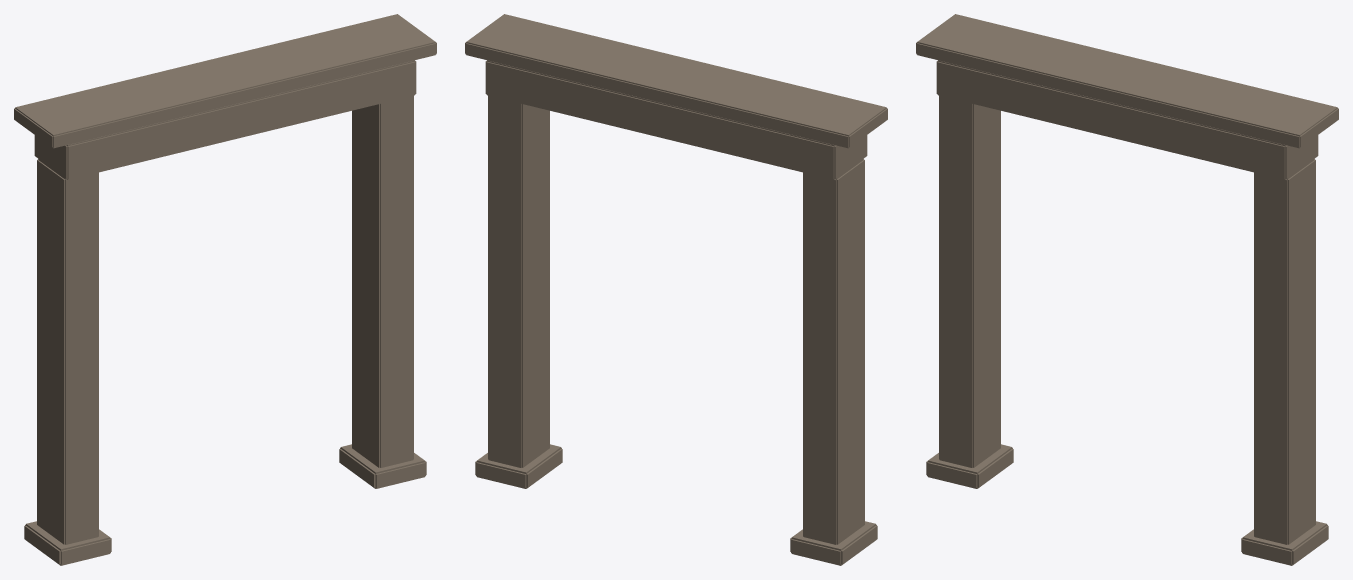
The model's file is entrance-arch.glb.
3 renders of one model, left to right at view 1: azimuth 30°, elevation 25°; view 2: azimuth 150°, elevation 25°; view 3: azimuth 330°, elevation 25°, orthographic.
Visible parts, largest first — view 1: EntranceArch_part, EntranceArch_part.002, EntranceArch_part.005, EntranceArch_part.004, EntranceArch_part.001, EntranceArch_part.003; view 2: EntranceArch_part, EntranceArch_part.002, EntranceArch_part.005, EntranceArch_part.004, EntranceArch_part.001, EntranceArch_part.003; view 3: EntranceArch_part.002, EntranceArch_part, EntranceArch_part.005, EntranceArch_part.004, EntranceArch_part.003, EntranceArch_part.001.
Part boxes in pixels (x1=…): EntranceArch_part: x1=37, y1=159, x2=98, y2=544; EntranceArch_part.002: x1=352, y1=95, x2=413, y2=467; EntranceArch_part.005: x1=14, y1=14, x2=436, y2=148; EntranceArch_part.004: x1=34, y1=60, x2=416, y2=179; EntranceArch_part.001: x1=24, y1=521, x2=111, y2=565; EntranceArch_part.003: x1=339, y1=444, x2=426, y2=488; EntranceArch_part: x1=803, y1=159, x2=864, y2=544; EntranceArch_part.002: x1=488, y1=95, x2=549, y2=467; EntranceArch_part.005: x1=465, y1=14, x2=887, y2=148; EntranceArch_part.004: x1=485, y1=60, x2=867, y2=179; EntranceArch_part.001: x1=790, y1=521, x2=877, y2=565; EntranceArch_part.003: x1=475, y1=444, x2=562, y2=488; EntranceArch_part.002: x1=1254, y1=159, x2=1315, y2=544; EntranceArch_part: x1=939, y1=95, x2=1000, y2=467; EntranceArch_part.005: x1=916, y1=14, x2=1338, y2=148; EntranceArch_part.004: x1=936, y1=60, x2=1318, y2=179; EntranceArch_part.003: x1=1241, y1=521, x2=1328, y2=565; EntranceArch_part.001: x1=926, y1=444, x2=1013, y2=488.
Bounding box in the file's own units: 4.84 × 5.22 × 0.86.
